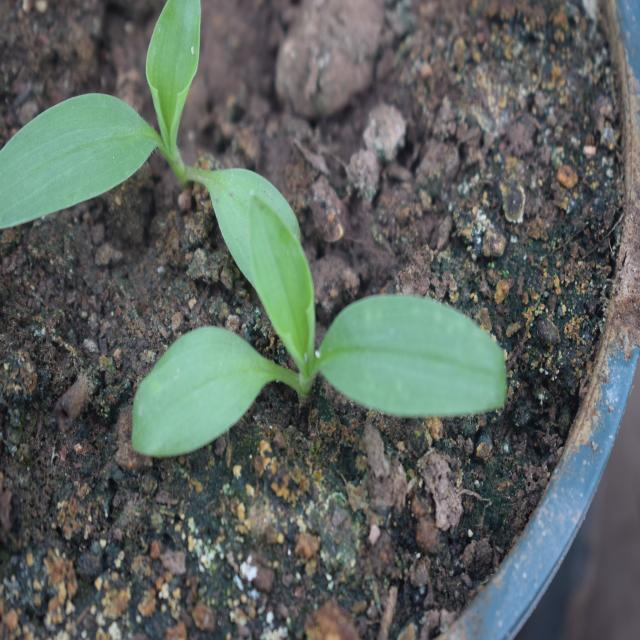Common Dayflower: (131, 212, 500, 455), (0, 0, 288, 249)
